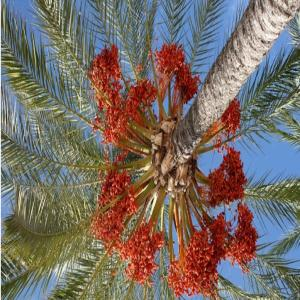palm tree: (1, 0, 299, 298)
